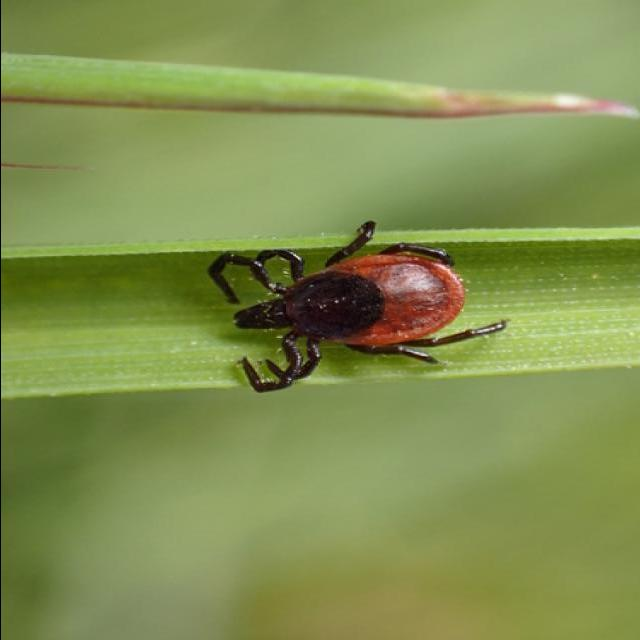Ixodes Ricinus-F: (205, 220, 505, 393)
